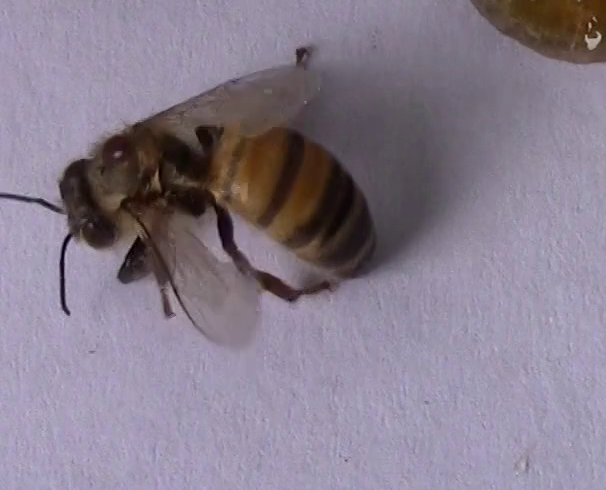Varroa destructor: (95, 129, 141, 175)
